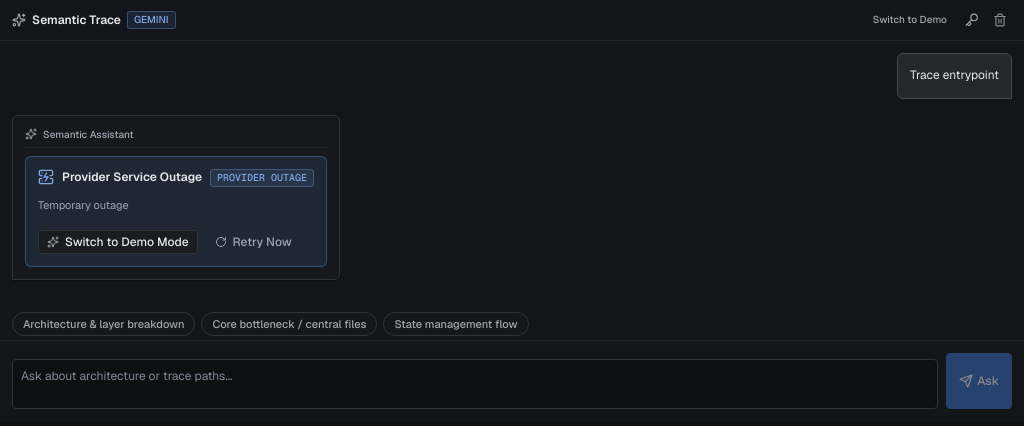
TracePanel › retries assistant query when retry button is clicked on fallback notice card (covers: AC-3)
Expected: the text "GEMINI" is shown, [127, 11, 176, 29]
Click the button "Retry Now" at (253, 242), box [206, 230, 301, 254]
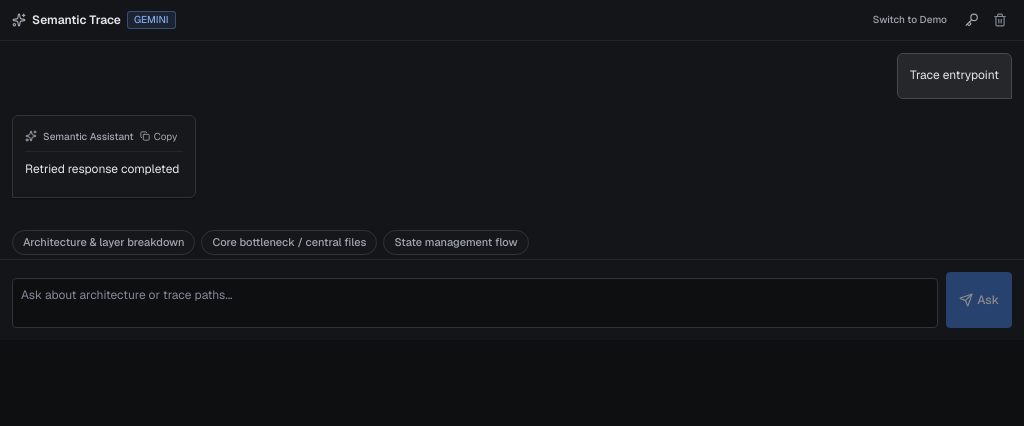
Result: the text "Retried response completed" is shown at [25, 160, 183, 179]
